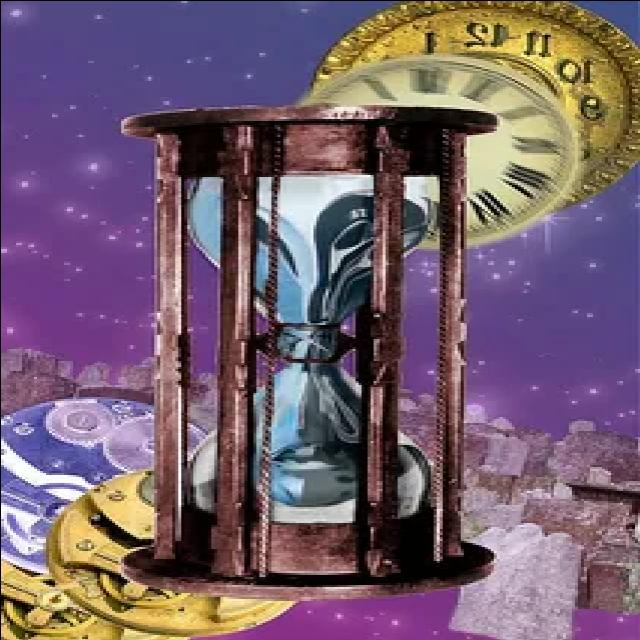clock: (96, 96, 507, 598)
